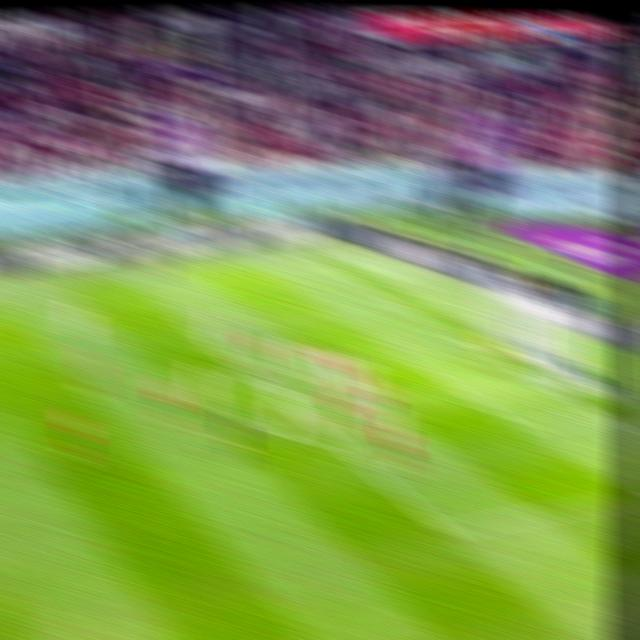bigarea_bottom_inner: (426, 511, 467, 550)
bigarea_top_inner: (174, 311, 206, 337)
bigarea_top_outter: (368, 285, 401, 309)
bottom_arc_area_intersection: (321, 427, 358, 459)
corner: (301, 250, 333, 270)
smallarea_bottom_inner: (504, 410, 541, 445)
smallarea_bottom_outter: (582, 398, 618, 430)
smallarea_top_inner: (371, 329, 408, 360)
smallarea_top_outter: (436, 320, 468, 347)
top_arc_area_intersection: (235, 358, 270, 388)
